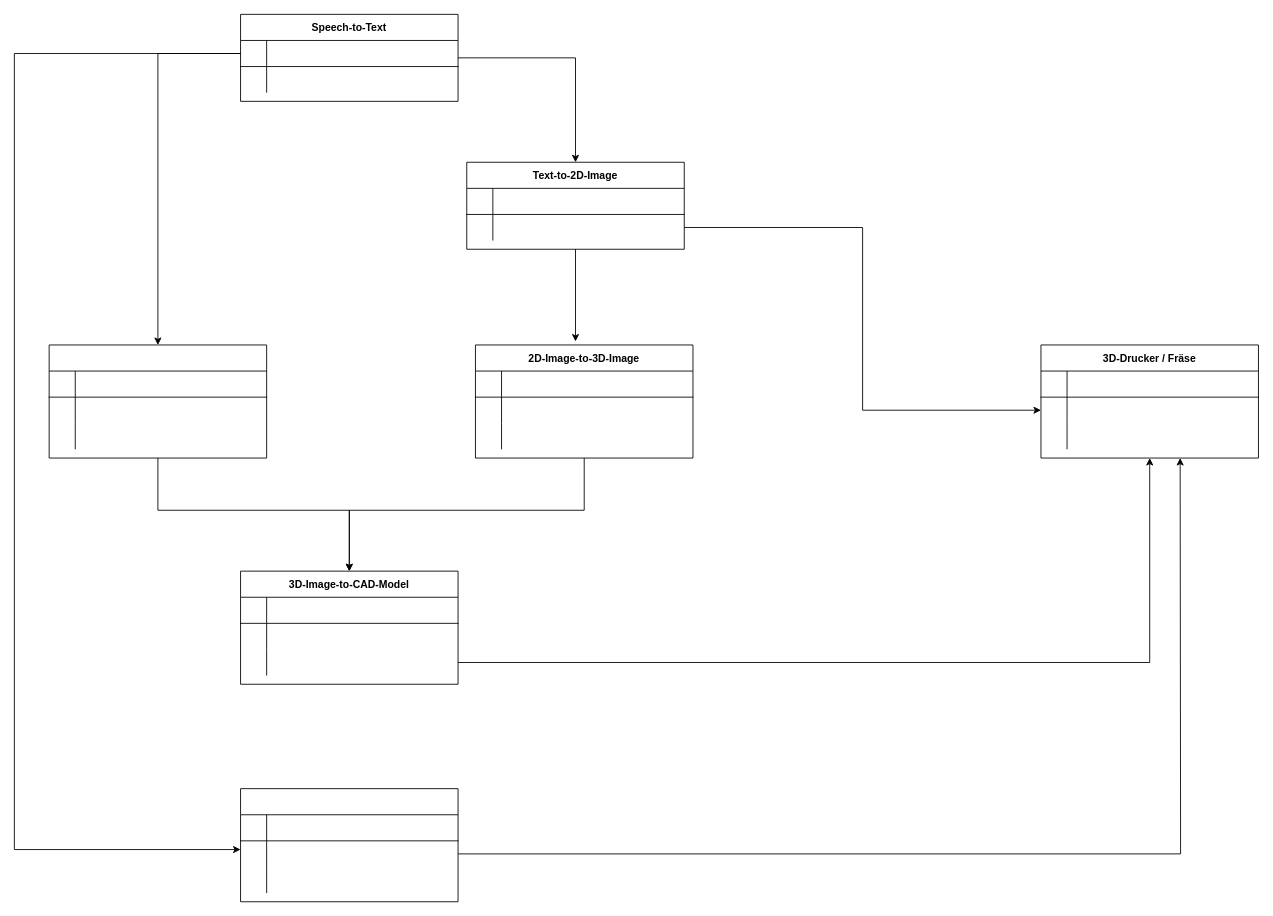
Image size: 1273x916. Some labels were removed from this diagram. The box of each missing label's shape, as (x1, y1, x2, y2) in pixels:
Text-to-3D-Image: (48, 344, 267, 458)
Text-to-CAD-Model: (240, 788, 458, 902)
